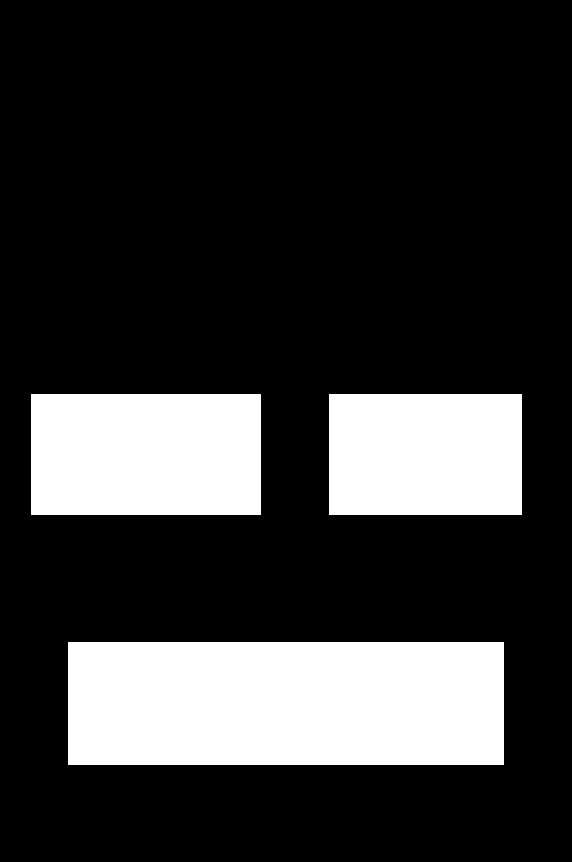table: (68, 642, 503, 764), (31, 394, 260, 514), (329, 394, 521, 514)
